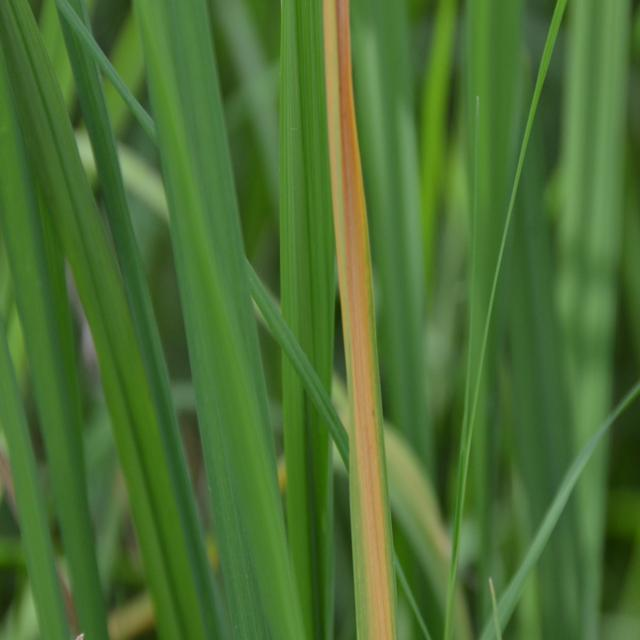Rice Tungro: (309, 0, 425, 638)
